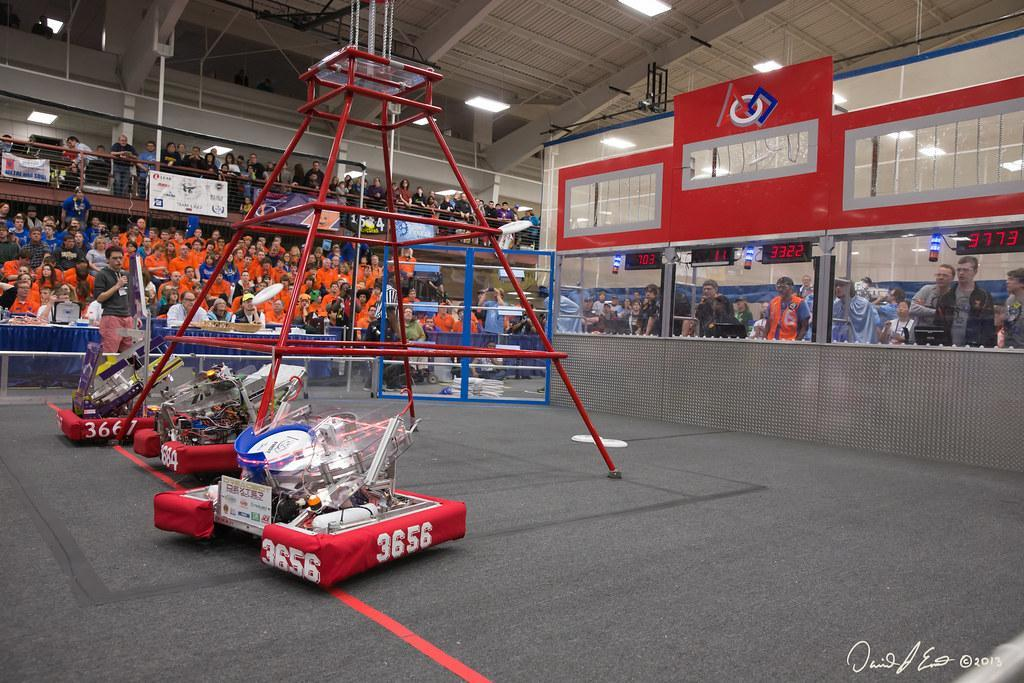robot: (147, 376, 475, 596), (129, 337, 313, 485), (53, 314, 192, 450)
